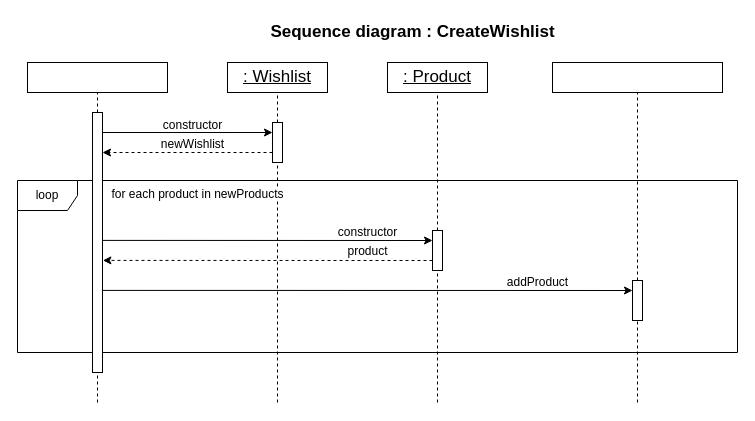
Image size: 755x421. Some labels were removed from this diagram. Each missing label, with the centre of its shape:
": CreateWishlist" belongs at point 97,77.
"newWishlist: Wishlist" belongs at point 637,77.
